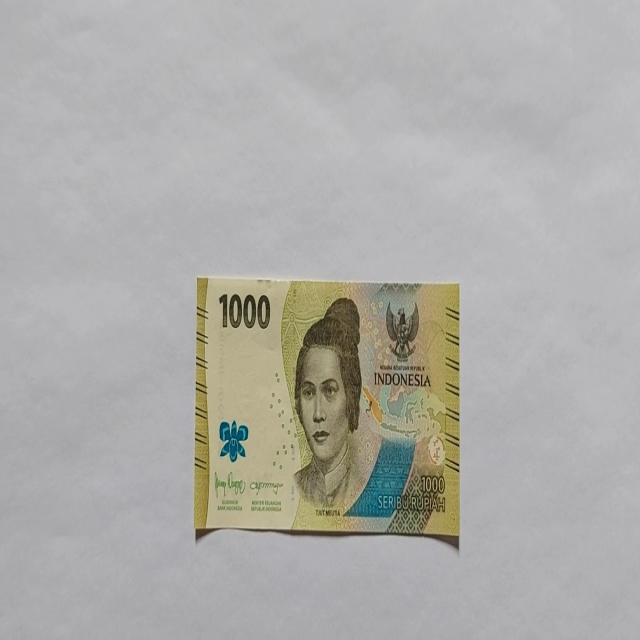seribu rupiah kertas: (194, 274, 461, 540)
